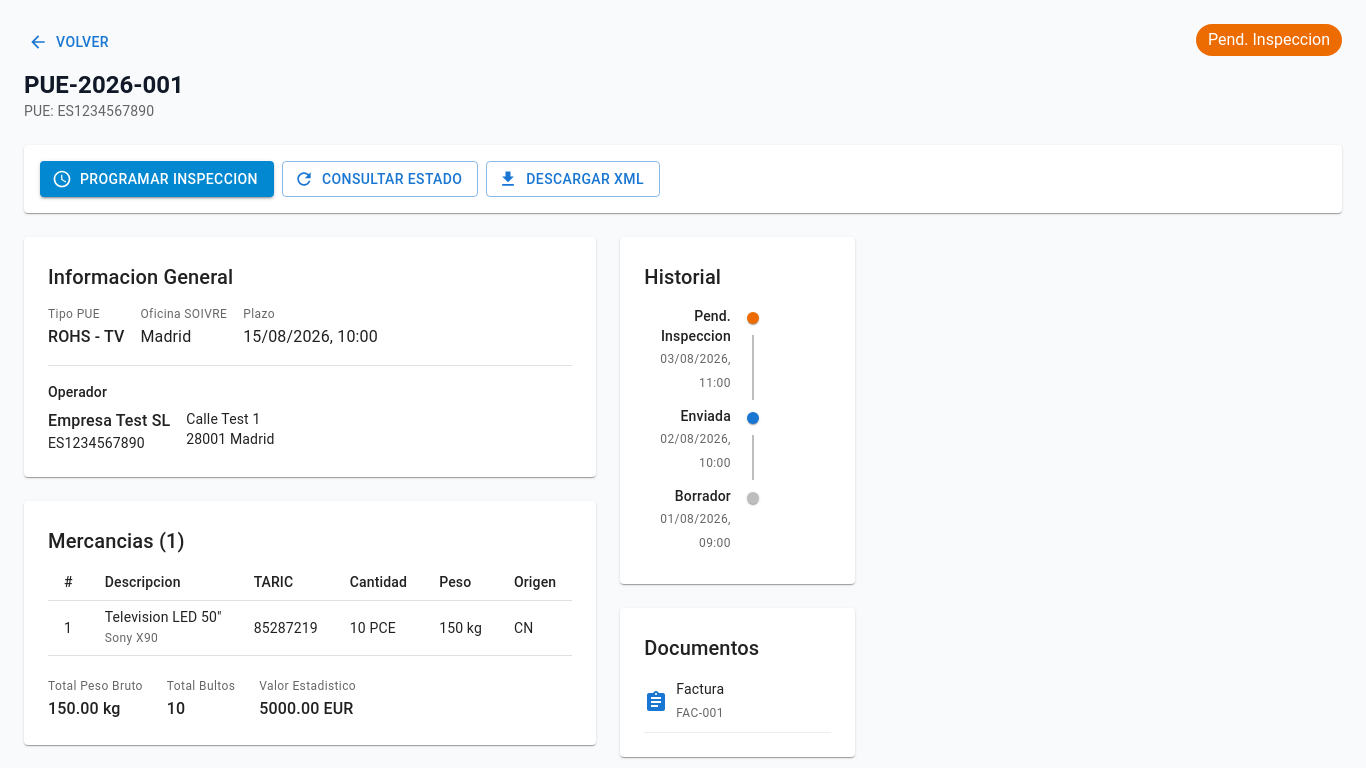
Test: PUERequestDetail › handleScheduleInspection dialog › closes schedule inspection dialog on cancel
The image size is (1366, 768).
Expected: the heading "PUE-2026-001" is shown, [24,68,184,100]
Click the button "Programar Inspeccion".
click(157, 179)  # box [40,160,274,197]
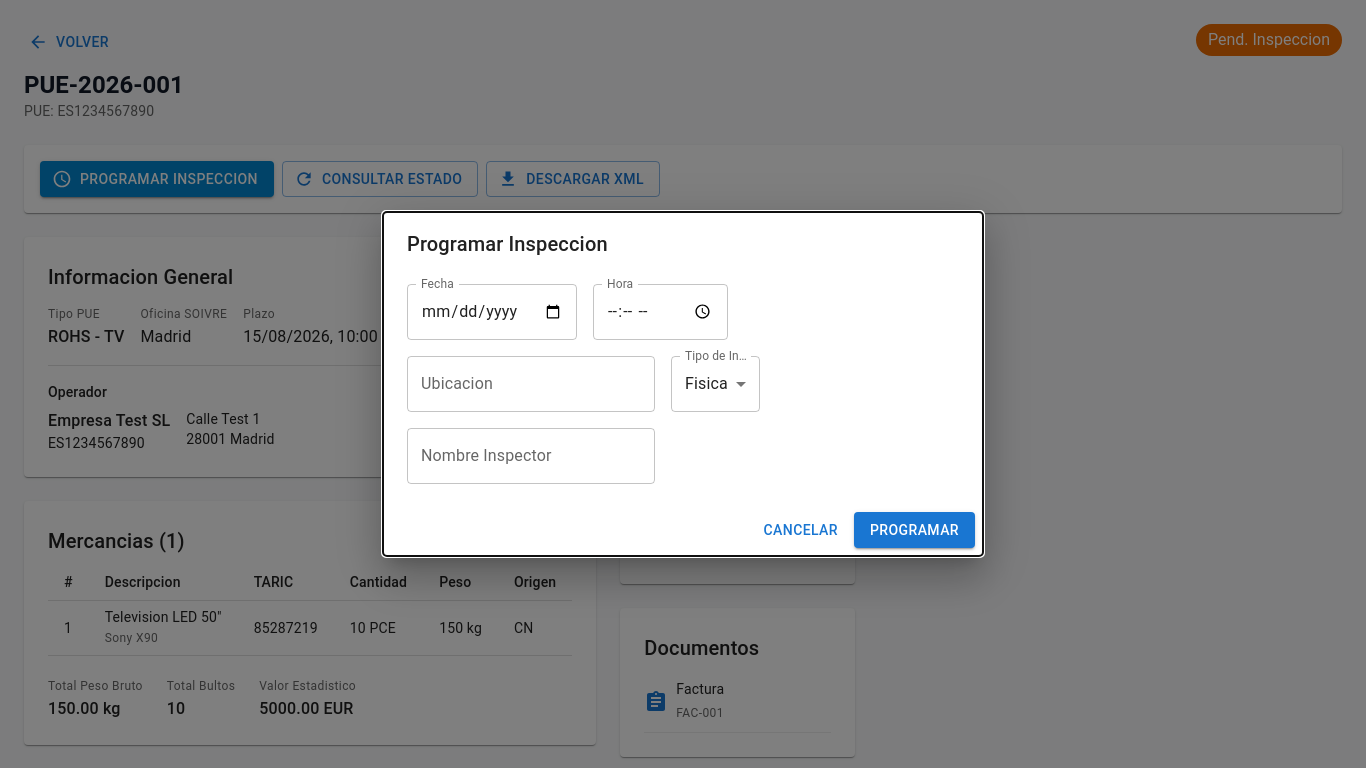
Expected: the dialog is shown, [383,212,983,556]
Click the button "Cancelar".
click(801, 530)  # box [756,512,846,548]
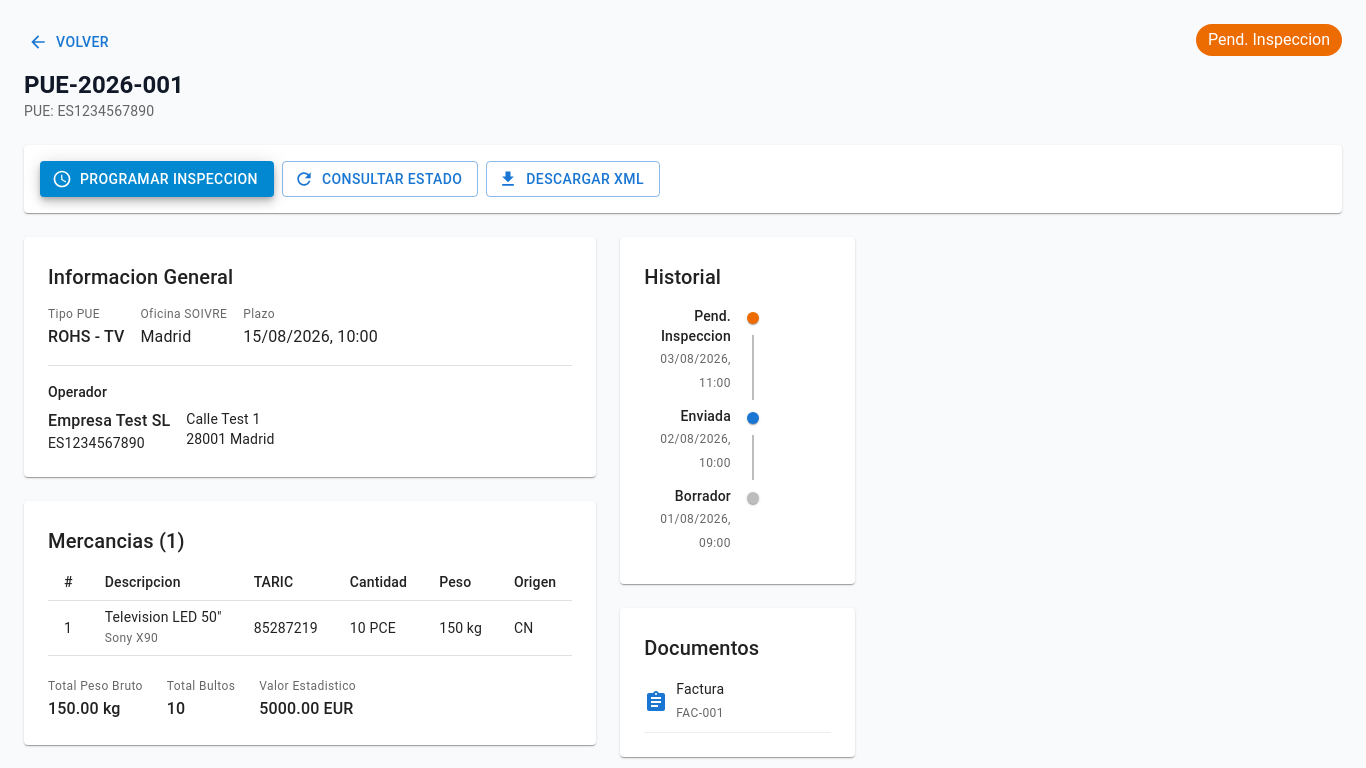
Expected: the dialog is gone
